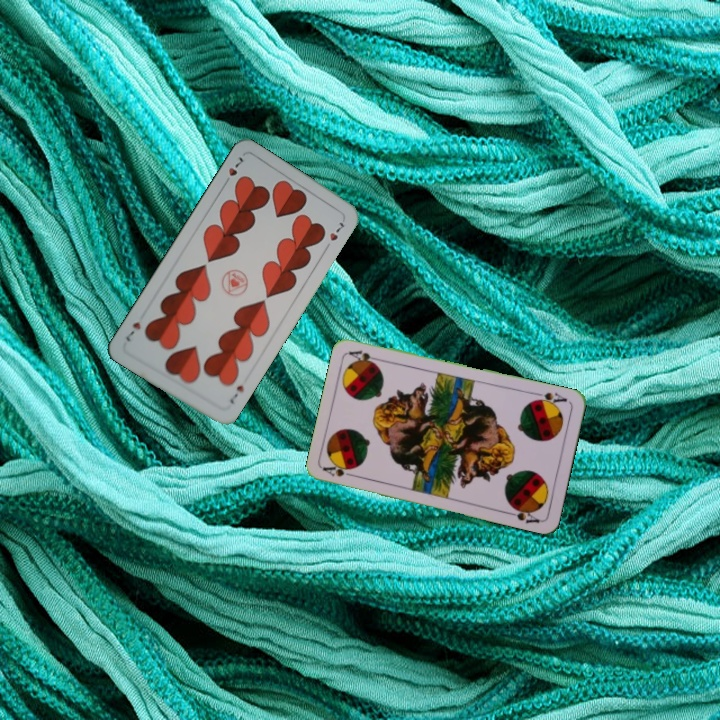H7: (220, 152, 246, 188), (225, 381, 247, 406)
SA: (529, 388, 570, 409), (320, 462, 360, 480)
